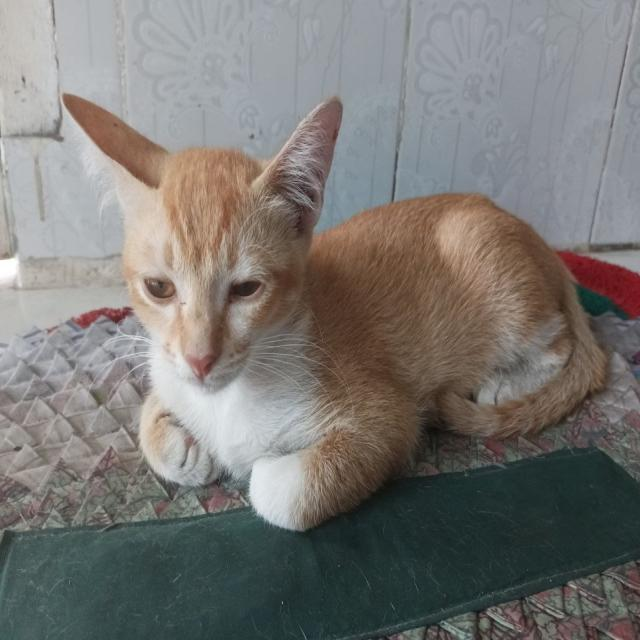da khoe manh: (304, 264, 551, 367)
